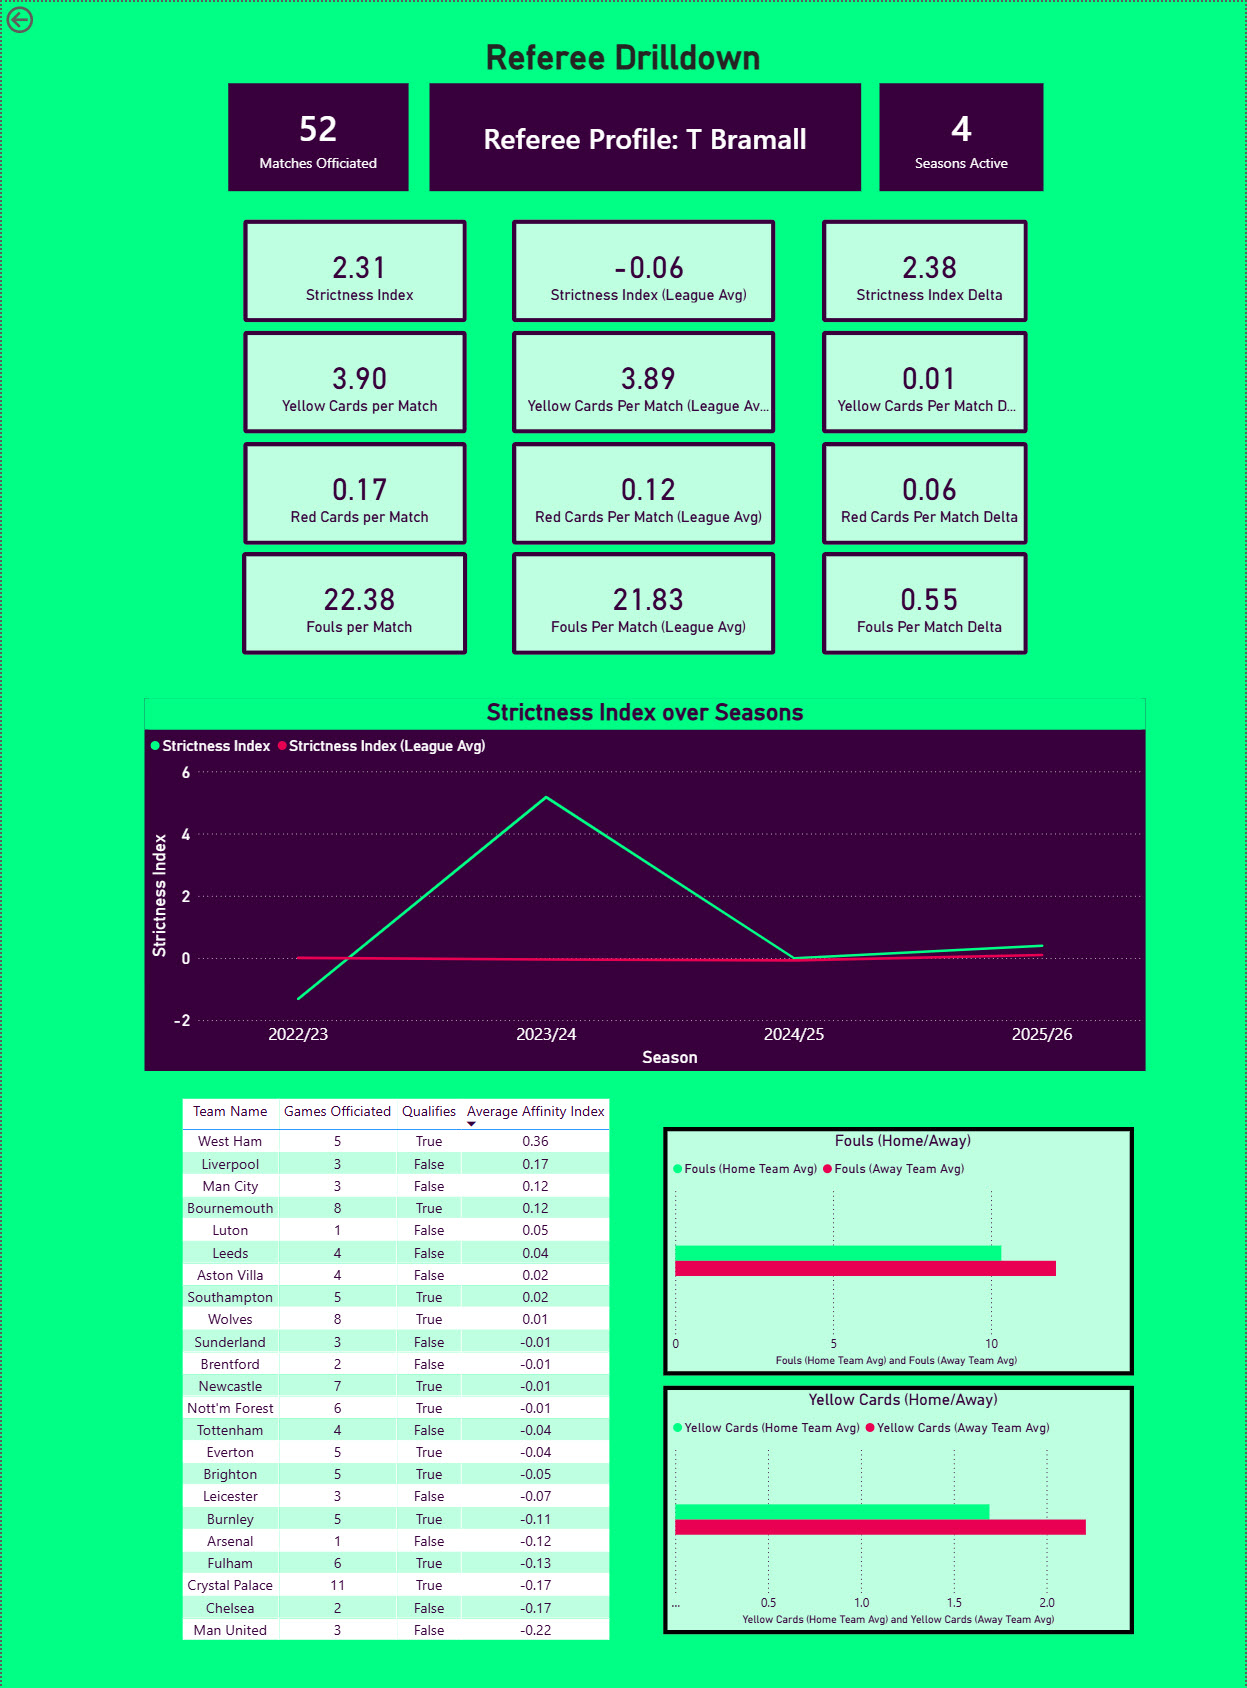

Layout of this report page (visuals, bound fields, positions):
{"tool":"powerbi","page":{"name":"Single Referee","canvas":[1400,1900],"ordinal":3},"visuals":[{"type":"cardVisual","fields":{"Data":["dim_referee.Matches Officiated"]},"box":[255,91.7,203.3,121.7],"z":0},{"type":"cardVisual","fields":{"Data":["dim_referee.Seasons Active"]},"box":[988.3,91.7,185,121.7],"z":1000},{"type":"cardVisual","fields":{"Data":["dim_referee.Referee Name"]},"box":[481.7,91.7,486.7,121.7],"z":2000},{"type":"actionButton","box":[0,0,100,40],"z":3000},{"type":"cardVisual","fields":{"Data":["dim_referee.Strictness Index"]},"box":[255,227.6,286.7,150],"z":4000},{"type":"cardVisual","fields":{"Data":["dim_referee.Strictness Index (League Avg)"]},"box":[558.3,227.6,331.7,150],"z":5000},{"type":"cardVisual","fields":{"Data":["dim_referee.Yellow Cards per Match"]},"box":[255,354.2,286.7,150],"z":6000},{"type":"cardVisual","fields":{"Data":["dim_referee.Yellow Cards Per Match (League Avg)"]},"box":[558.3,354.2,331.7,150],"z":7000},{"type":"cardVisual","fields":{"Data":["dim_referee.Red Cards per Match"]},"box":[255,479.2,286.7,150],"z":8000},{"type":"cardVisual","fields":{"Data":["dim_referee.Red Cards Per Match (League Avg)"]},"box":[558.3,479.2,331.7,150],"z":9000},{"type":"cardVisual","fields":{"Data":["dim_referee.Fouls per Match"]},"box":[253.3,602.6,288.3,150],"z":10000},{"type":"cardVisual","fields":{"Data":["dim_referee.Fouls Per Match (League Avg)"]},"box":[558.3,602.6,331.7,150],"z":11000},{"type":"cardVisual","fields":{"Data":["dim_referee.Fouls Per Match Delta"]},"box":[906.7,602.6,266.7,150],"z":12000},{"type":"cardVisual","fields":{"Data":["dim_referee.Yellow Cards Per Match Delta"]},"box":[906.7,354.2,266.7,150],"z":13000},{"type":"cardVisual","fields":{"Data":["dim_referee.Red Cards Per Match Delta"]},"box":[906.7,479.2,266.7,150],"z":14000},{"type":"cardVisual","fields":{"Data":["dim_referee.Strictness Index Delta"]},"box":[906.7,227.6,266.7,150],"z":15000},{"type":"lineChart","title":"Strictness Index over Seasons","fields":{"Y":["dim_referee.Strictness Index","dim_referee.Strictness Index (League Avg)"],"Category":["dim_season.season_label"]},"box":[160,785,1128.3,420],"z":16000},{"type":"clusteredBarChart","title":"Fouls (Home/Away)","fields":{"Y":["dim_referee.Fouls (Home Team Avg)","dim_referee.Fouls (Away Team Avg)"]},"box":[745,1267.9,530,280],"z":17000},{"type":"clusteredBarChart","title":"Yellow Cards (Home/Away)","fields":{"Y":["dim_referee.Yellow Cards (Home Team Avg)","dim_referee.Yellow Cards (Away Team Avg)"]},"box":[745,1559.5,530,280],"z":18000},{"type":"tableEx","fields":{"Values":["dim_team.team_name","Sum(referee_team_affinity.pair_n)","referee_team_affinity.qualifies","referee_team_affinity.Avg Affinity Index (by Team)"]},"box":[196.7,1231.7,516.7,656.7],"z":19000},{"type":"textbox","box":[0,35,1400,56.7],"z":20000}]}

Visuals, with their boxes in screenshot pixels (x1, y1, x2, y2), scaled from the page's 1400x1900 canvas onto the 1247x1688 screenshot:
cardVisual - dim_referee.Matches Officiated: box=[227, 81, 408, 190]
cardVisual - dim_referee.Seasons Active: box=[880, 81, 1045, 190]
cardVisual - dim_referee.Referee Name: box=[429, 81, 863, 190]
actionButton: box=[0, 0, 89, 36]
cardVisual - dim_referee.Strictness Index: box=[227, 202, 482, 335]
cardVisual - dim_referee.Strictness Index (League Avg): box=[497, 202, 793, 335]
cardVisual - dim_referee.Yellow Cards per Match: box=[227, 315, 482, 448]
cardVisual - dim_referee.Yellow Cards Per Match (League Avg): box=[497, 315, 793, 448]
cardVisual - dim_referee.Red Cards per Match: box=[227, 426, 482, 559]
cardVisual - dim_referee.Red Cards Per Match (League Avg): box=[497, 426, 793, 559]
cardVisual - dim_referee.Fouls per Match: box=[226, 535, 482, 669]
cardVisual - dim_referee.Fouls Per Match (League Avg): box=[497, 535, 793, 669]
cardVisual - dim_referee.Fouls Per Match Delta: box=[808, 535, 1045, 669]
cardVisual - dim_referee.Yellow Cards Per Match Delta: box=[808, 315, 1045, 448]
cardVisual - dim_referee.Red Cards Per Match Delta: box=[808, 426, 1045, 559]
cardVisual - dim_referee.Strictness Index Delta: box=[808, 202, 1045, 335]
"Strictness Index over Seasons" lineChart: box=[143, 697, 1148, 1071]
"Fouls (Home/Away)" clusteredBarChart: box=[664, 1126, 1136, 1375]
"Yellow Cards (Home/Away)" clusteredBarChart: box=[664, 1385, 1136, 1634]
tableEx - dim_team.team_name x Sum(referee_team_affinity.pair_n): box=[175, 1094, 635, 1678]
textbox: box=[0, 31, 1246, 81]
